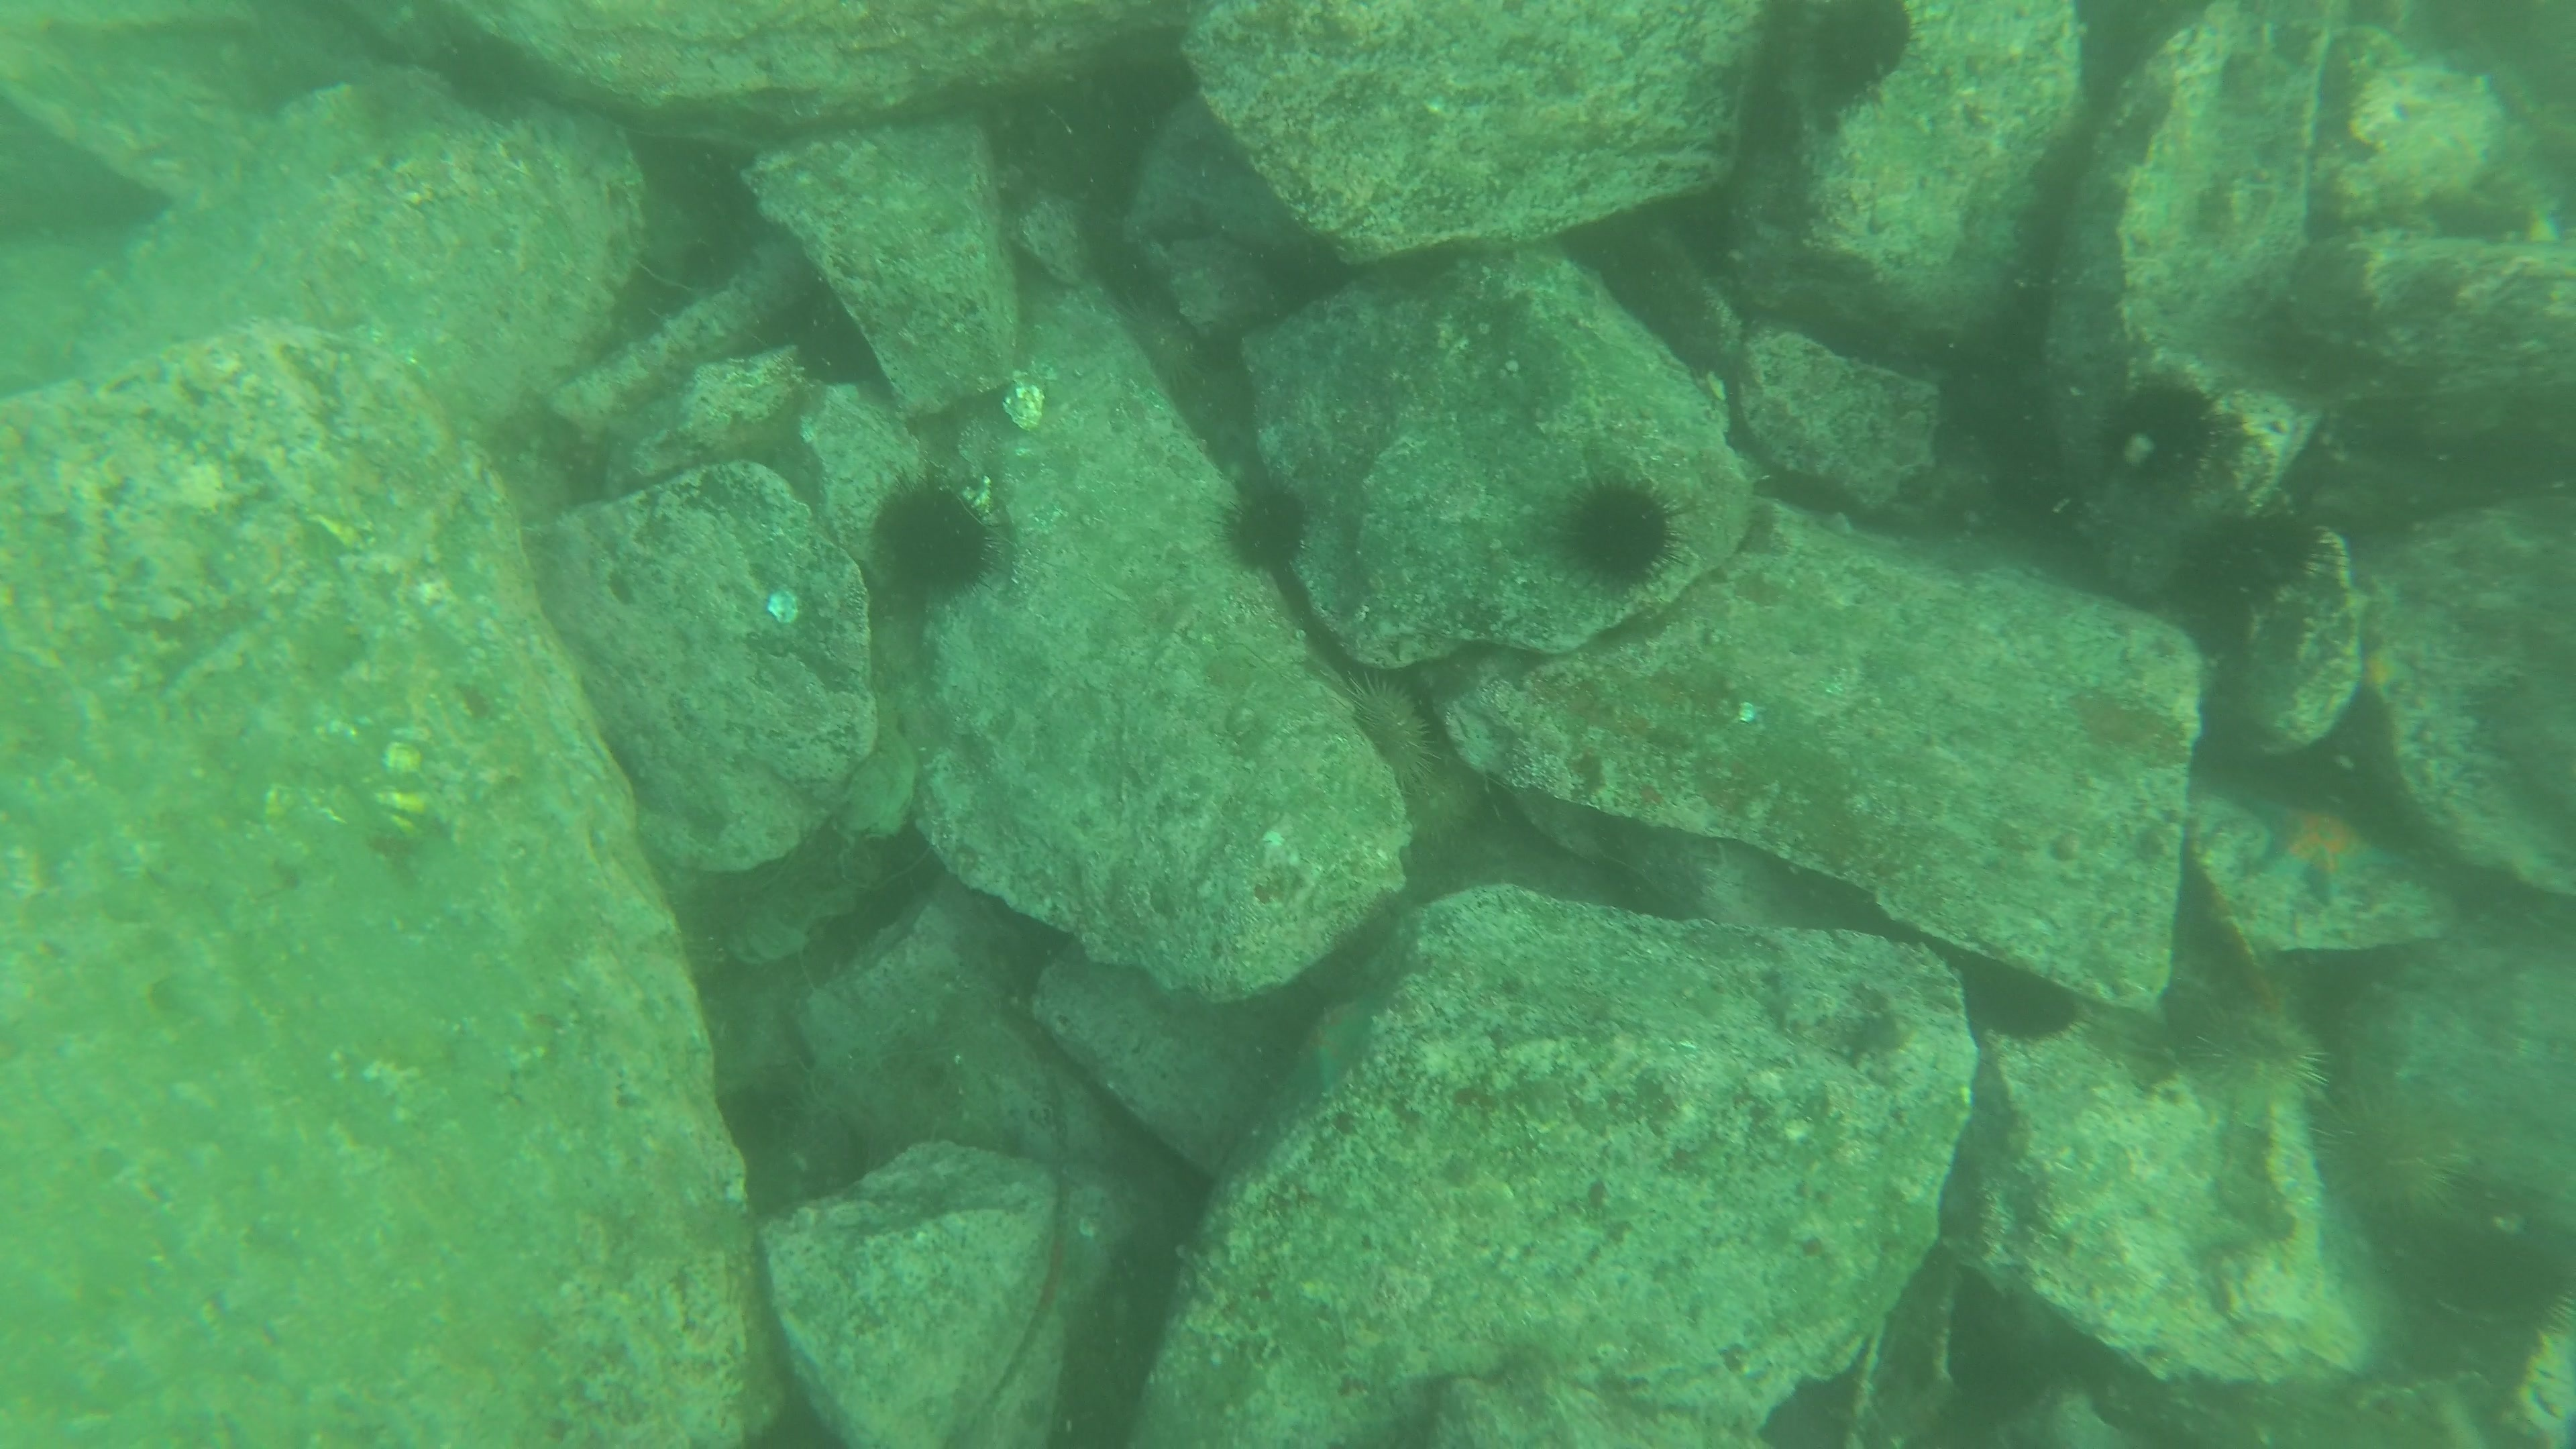echinus: (2311, 1077, 2479, 1235), (867, 469, 1007, 605), (2169, 499, 2323, 621), (1330, 667, 1449, 812), (2095, 370, 2231, 495), (1550, 469, 1684, 594), (2201, 1001, 2335, 1127), (1796, 2, 1923, 108), (1214, 472, 1318, 579)
starfish: (2233, 782, 2403, 915), (1284, 980, 1394, 1109), (2350, 621, 2420, 718)
